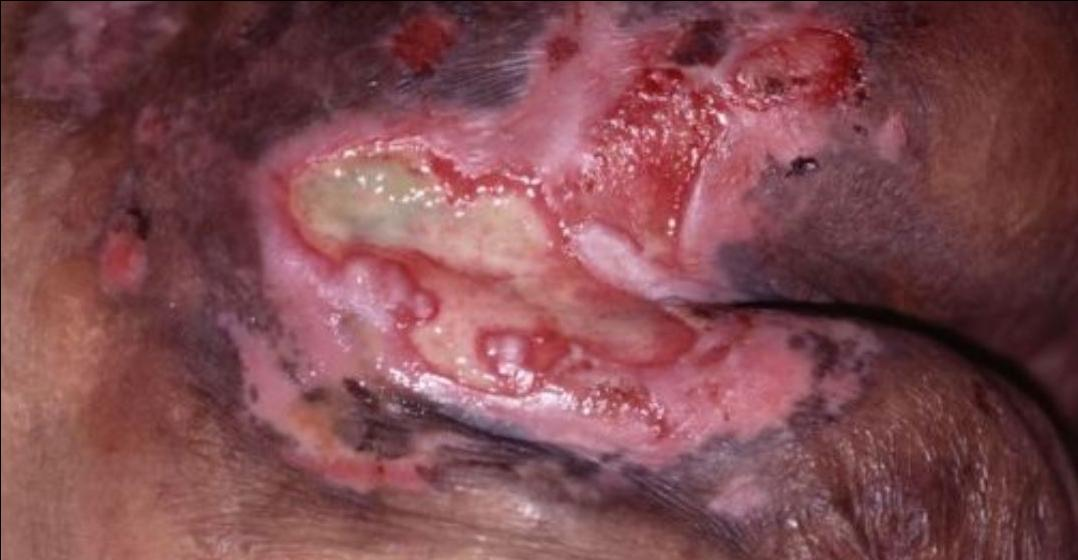Stage3: (210, 22, 912, 475)
